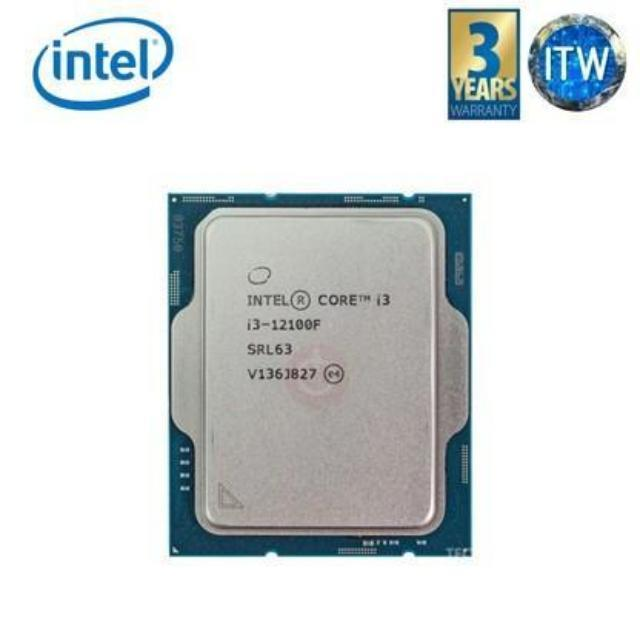CPU: (162, 192, 470, 557)
